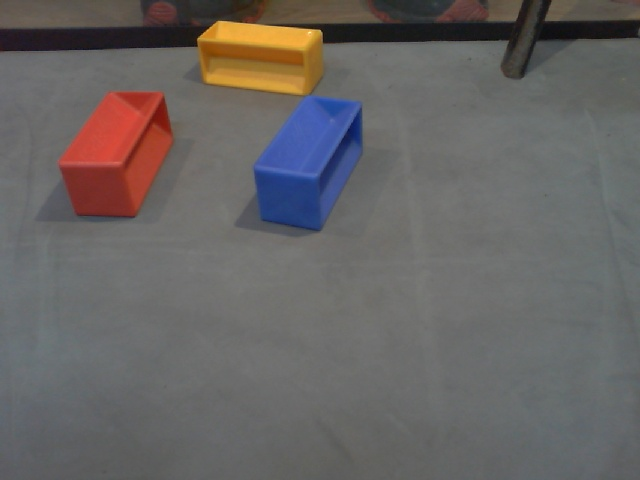BlueSample: (249, 92, 366, 233)
RedSample: (55, 85, 178, 218)
YellowSample: (195, 18, 330, 101)
